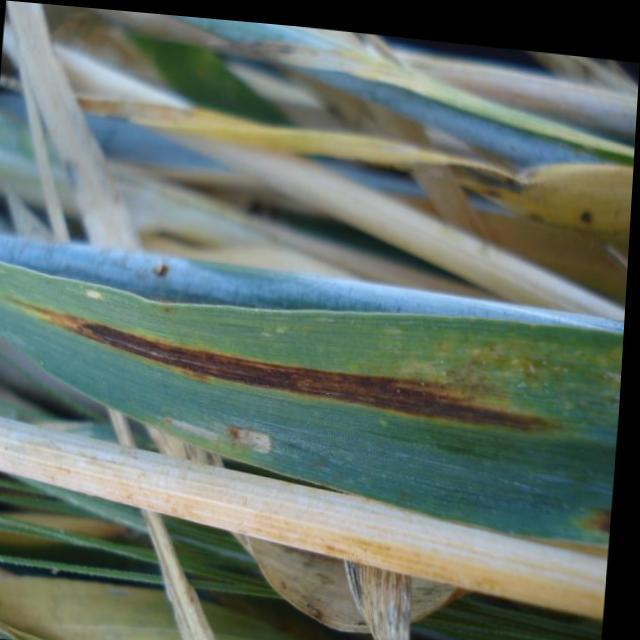Stem_Rust: (0, 234, 627, 534)
